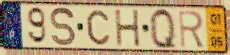9: (26, 6, 49, 47)
C: (85, 8, 112, 47)
H: (113, 8, 142, 48)
Q: (148, 7, 179, 52)
R: (177, 9, 206, 49)
S: (49, 6, 78, 48)
